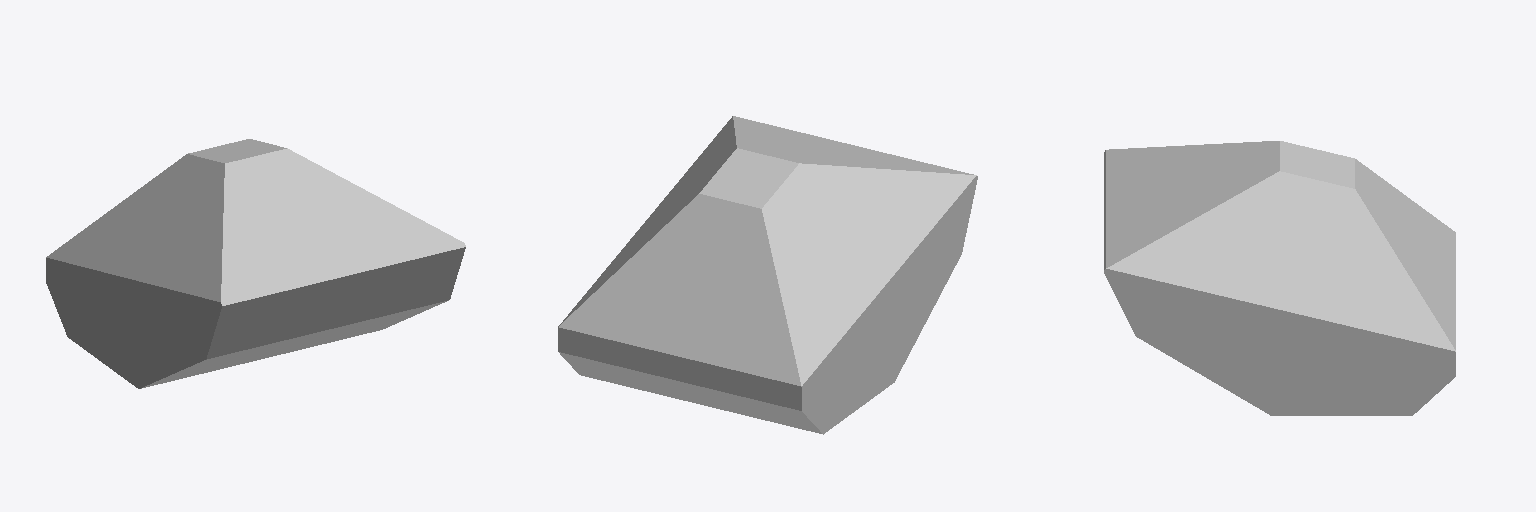
The model's file is TheRock3.obj.
The picture shows the model from 3 angles: view 1: azimuth 30°, elevation 25°; view 2: azimuth 150°, elevation 25°; view 3: azimuth 270°, elevation 25°; orthographic projection.
Parts seen in each view (by area): view 1: Cube.001; view 2: Cube.001; view 3: Cube.001.
Part boxes in pixels (left/top/right/bottom): Cube.001: left=46, top=139, right=465, bottom=388; Cube.001: left=558, top=116, right=977, bottom=434; Cube.001: left=1104, top=141, right=1455, bottom=415.
Size of the model in its own units: 0.4627 by 0.3634 by 0.5802.